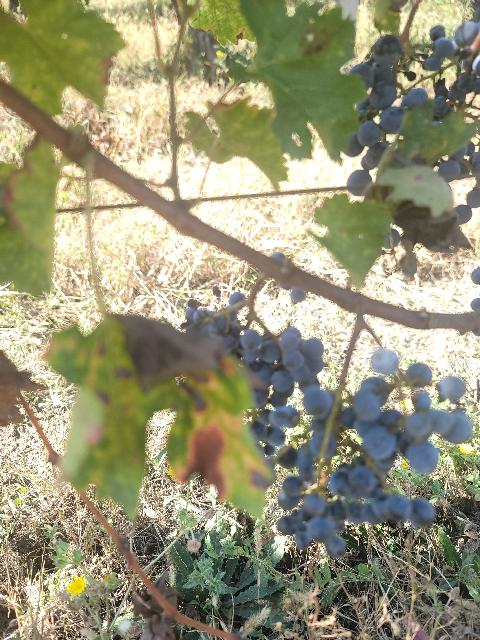grapes: (251, 362, 472, 558), (185, 292, 324, 455), (344, 35, 428, 195), (371, 348, 394, 370)
